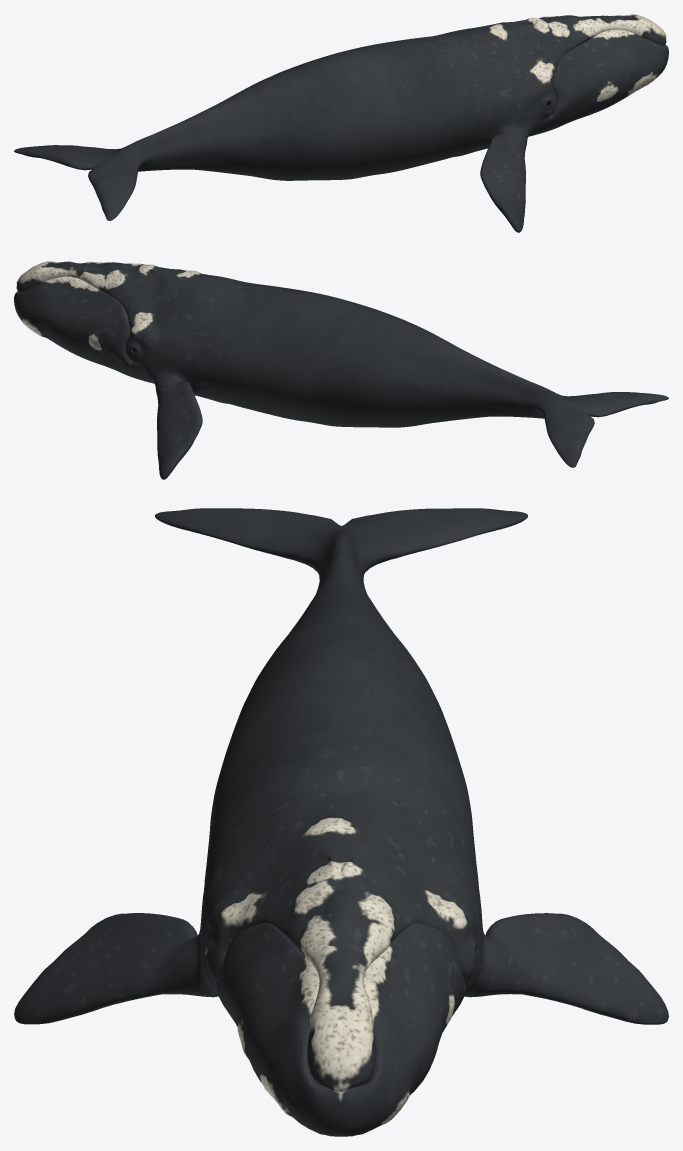
Rendered from model-right-whale-atlantic-v0664.glb.
3 views of the same model, one above another, from view 1: azimuth 30°, elevation 25°; view 2: azimuth 150°, elevation 25°; view 3: azimuth 270°, elevation 25° (orthographic). The views are drawn at different scales.
Parts seen in each view (by area): view 1: Whale_Bake_0; view 2: Whale_Bake_0; view 3: Whale_Bake_0.
Part boxes in pixels (<box>): Whale_Bake_0: <box>14,14,668,232</box>; Whale_Bake_0: <box>14,261,668,479</box>; Whale_Bake_0: <box>14,508,668,1136</box>.
Size of the model in its own units: 3.84 by 0.8329 by 1.85.
3 materials, 1 textured.
